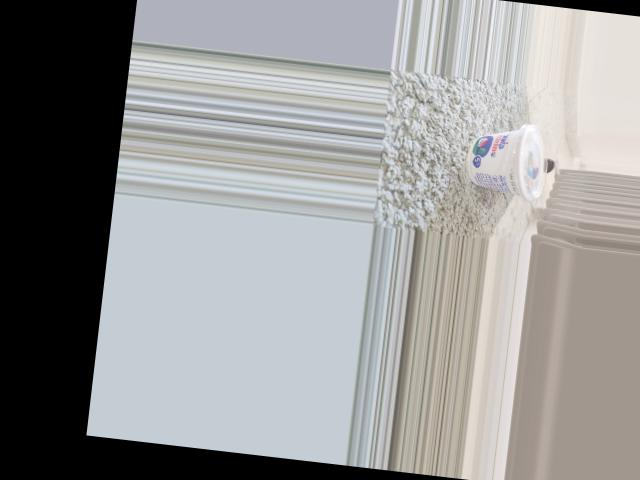cotage: (461, 121, 551, 198)
